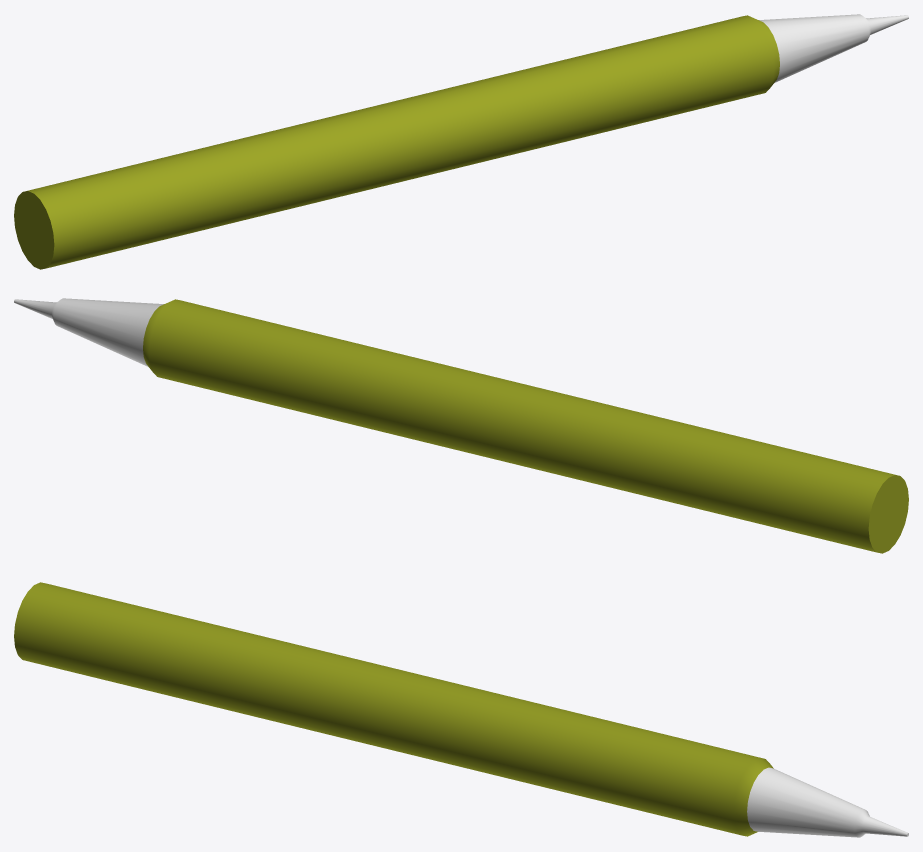
The model's file is Bullet.fbx.
3 views of the same model, one above another, from view 1: azimuth 30°, elevation 25°; view 2: azimuth 150°, elevation 25°; view 3: azimuth 330°, elevation 25° (orthographic).
Visible parts, largest first — view 1: pCylinder1; view 2: pCylinder1; view 3: pCylinder1.
Part boxes in pixels (left/top/right/bottom): pCylinder1: left=14, top=14, right=908, bottom=269; pCylinder1: left=14, top=298, right=908, bottom=553; pCylinder1: left=14, top=582, right=908, bottom=837.
Bounding box in the file's own units: 5 × 0.4 × 0.4.
